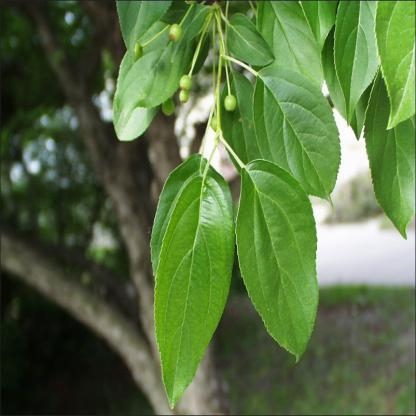Apple leaf: (146, 150, 236, 416), (233, 157, 326, 380), (105, 5, 218, 152), (251, 66, 347, 209), (354, 56, 416, 254)
